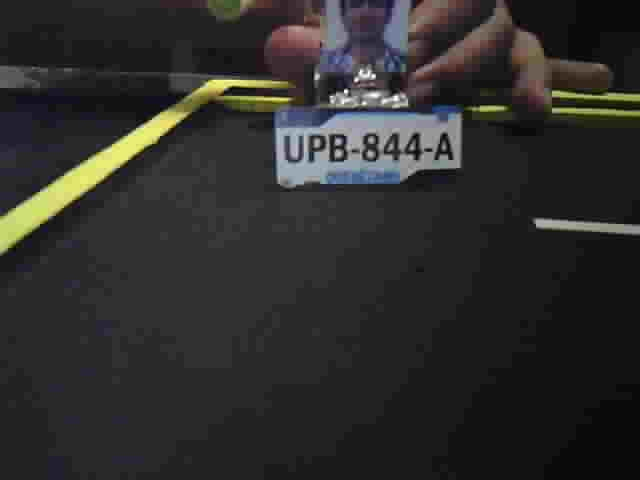PLACA: (271, 104, 466, 187)
ROSTRO: (324, 1, 409, 73)
